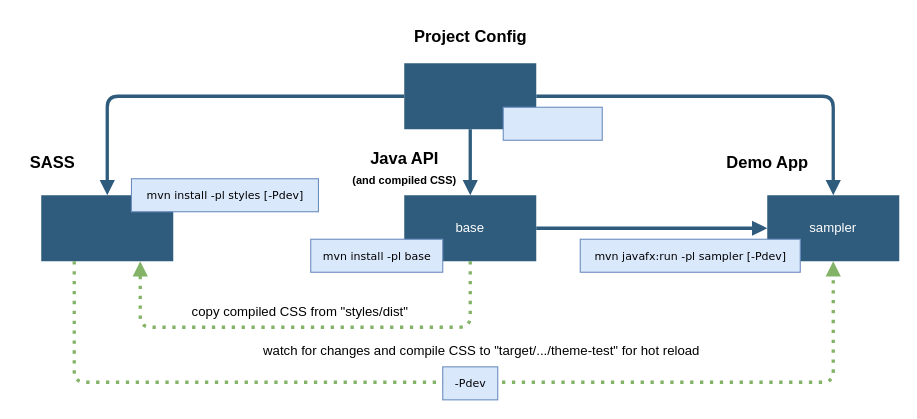
Image size: 917x419. Some labels were removed from this diagram. Here are the shapes that lost their labels. From the top down, the centre of each, then its label:
point 470,96: parent
point 552,123: mvn install -N
point 107,228: styles
